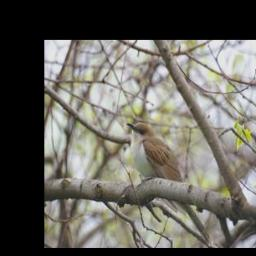Cuckoo: (125, 122, 214, 248)
